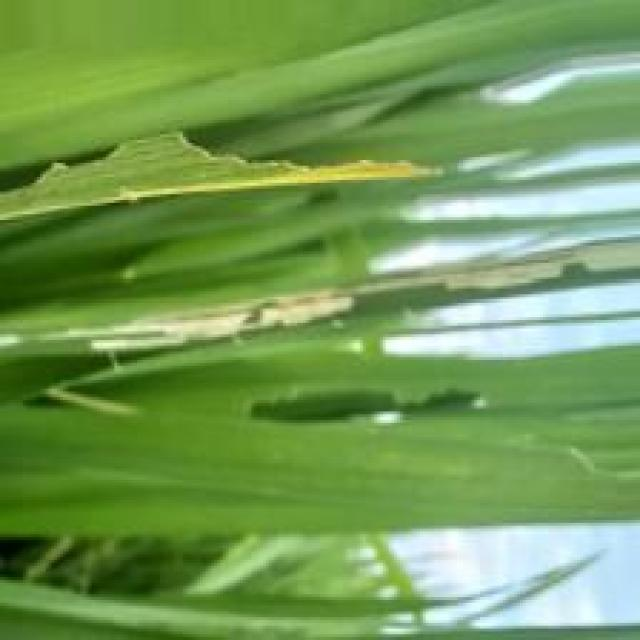Rice_Hispa: (0, 237, 640, 350)
